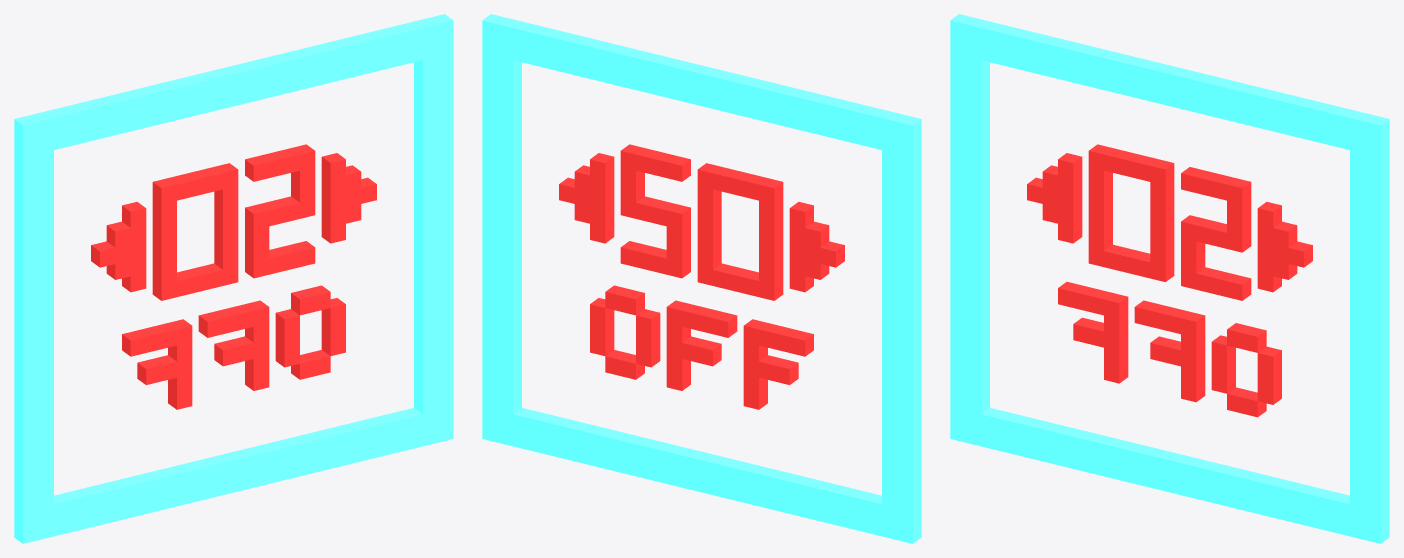
Rendered from neon_50_off_kwadrat.dae.
3 renders of one model, left to right at view 1: azimuth 30°, elevation 25°; view 2: azimuth 150°, elevation 25°; view 3: azimuth 330°, elevation 25°, orthographic.
Visible parts, largest first — view 1: Content; view 2: Content; view 3: Content.
Part boxes in pixels (left/top/right/bottom): Content: left=14, top=14, right=453, bottom=543; Content: left=482, top=14, right=921, bottom=543; Content: left=950, top=14, right=1389, bottom=543.
Size of the model in its own units: 28 by 26 by 1.
Materials: 1 (1 with a texture image).
